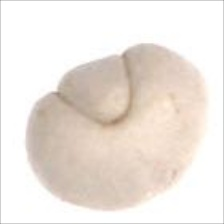L5: (50, 51, 140, 134), (130, 153, 196, 205)
L6: (21, 40, 212, 213)
